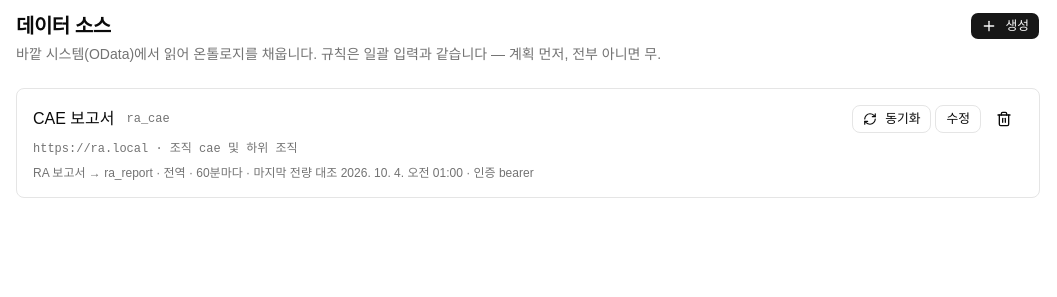
Test: RA 보고서 소스 › 목록은 조직과 전량 대조를, 실행 기록은 「원본에서 내려감」 을 말한다
Expected: the text "https://ra.local · 조직 cae 및 하위 조직" is shown, [33, 142, 298, 156]
Expected: the text "마지막 전량 대조" is shown, [243, 166, 463, 180]
Click the button "CAE 보고서" at point(74, 119), box [33, 107, 114, 131]
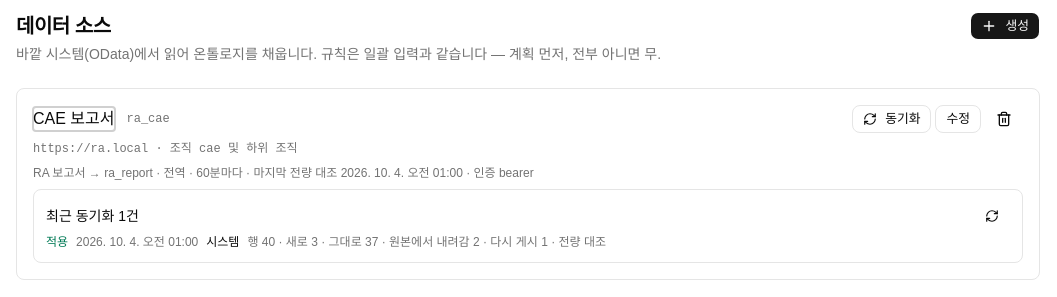
Result: the text "행 40 · 새로 3 · 그대로 37 · 원본에서 내려감 2 · 다시 게시 1 · 전량 대조" is shown at [247, 234, 606, 250]
